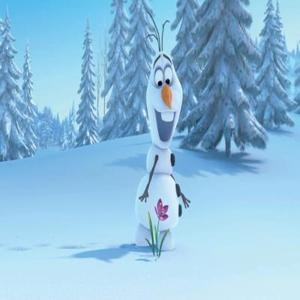olaf: (138, 9, 190, 258)
